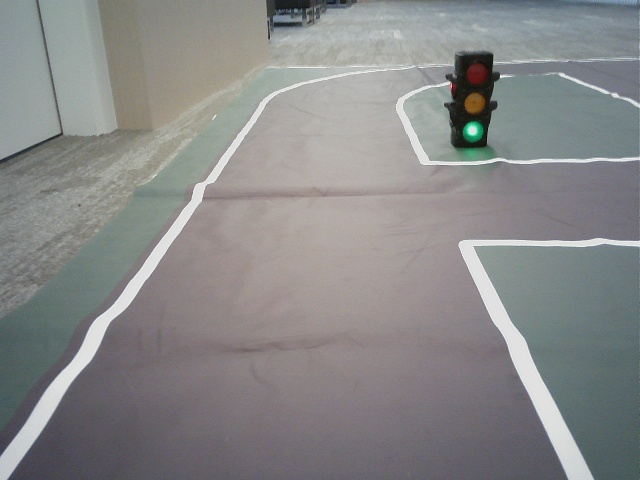green: (455, 59, 489, 144)
